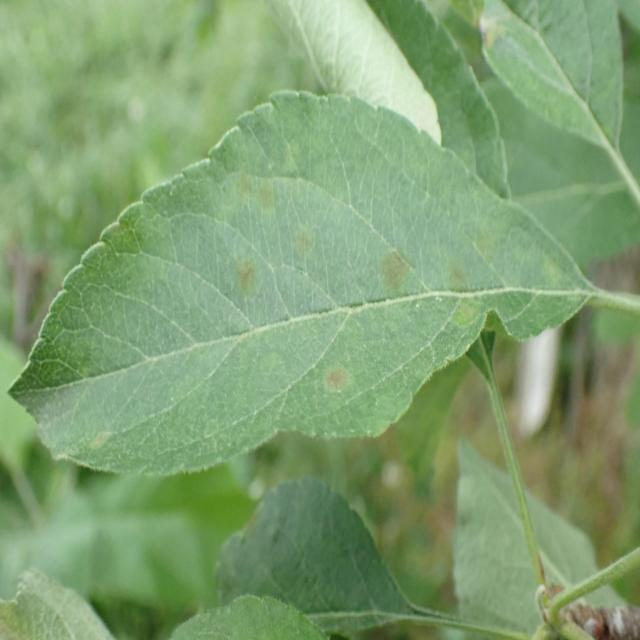scab: (25, 152, 572, 464)
